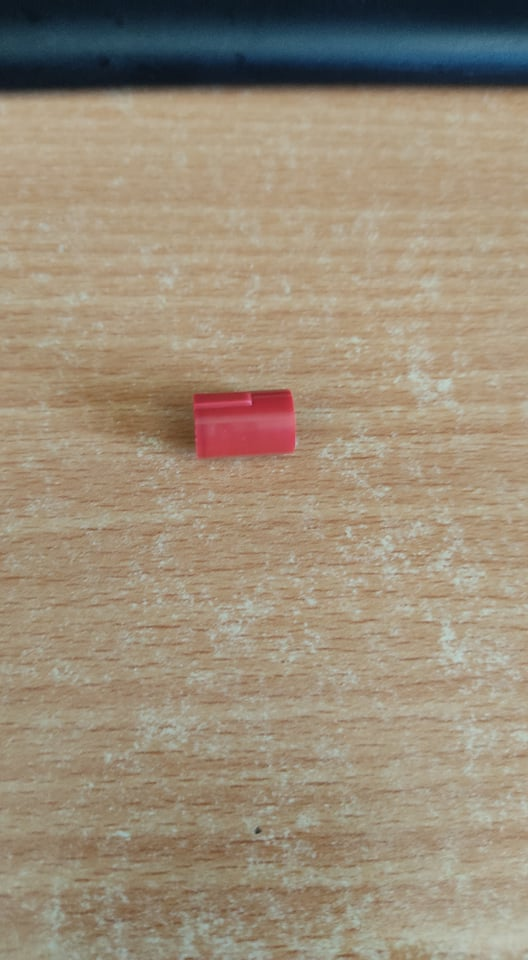red_bucking: (171, 379, 319, 471)
